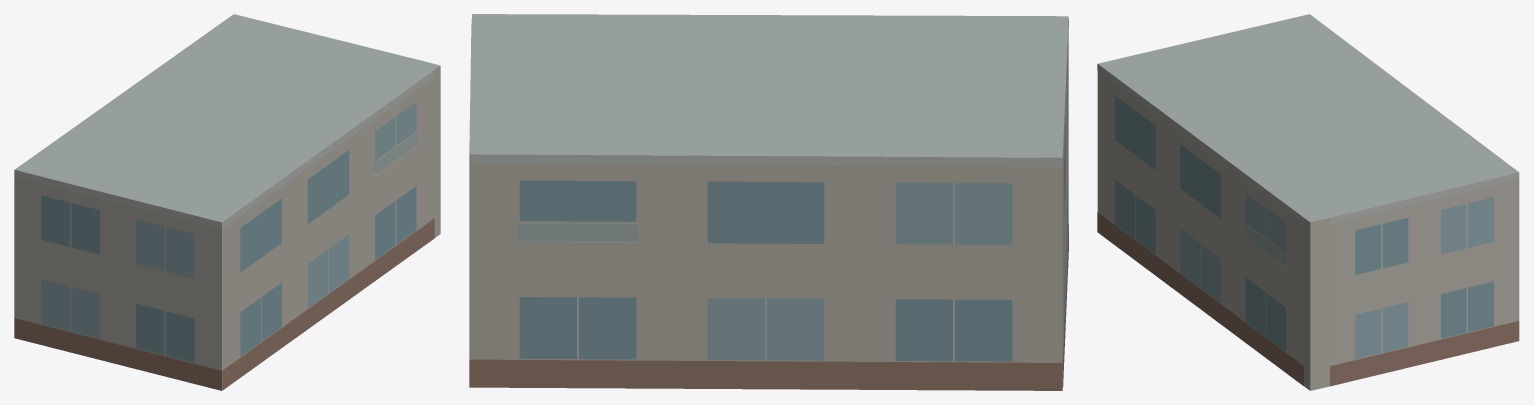
Rendered from survey-upis-32695351.glb.
3 views of the same model, side by side, from view 1: azimuth 30°, elevation 25°; view 2: azimuth 150°, elevation 25°; view 3: azimuth 270°, elevation 25° (orthographic). The views are drawn at different scales.
Visible parts, largest first — view 1: survey-upis-32695351.tmp; view 2: survey-upis-32695351.tmp; view 3: survey-upis-32695351.tmp.
Boxes of the visible parts, x1,y1,x2,y2 form: survey-upis-32695351.tmp: (14, 14, 440, 390); survey-upis-32695351.tmp: (469, 14, 1068, 390); survey-upis-32695351.tmp: (1097, 14, 1519, 390).
Bounding box in the file's own units: 16.17 × 6.1 × 13.84.
